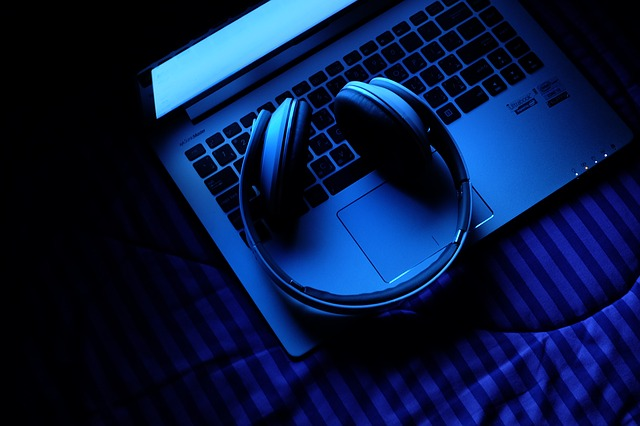headphones: (238, 79, 474, 317)
